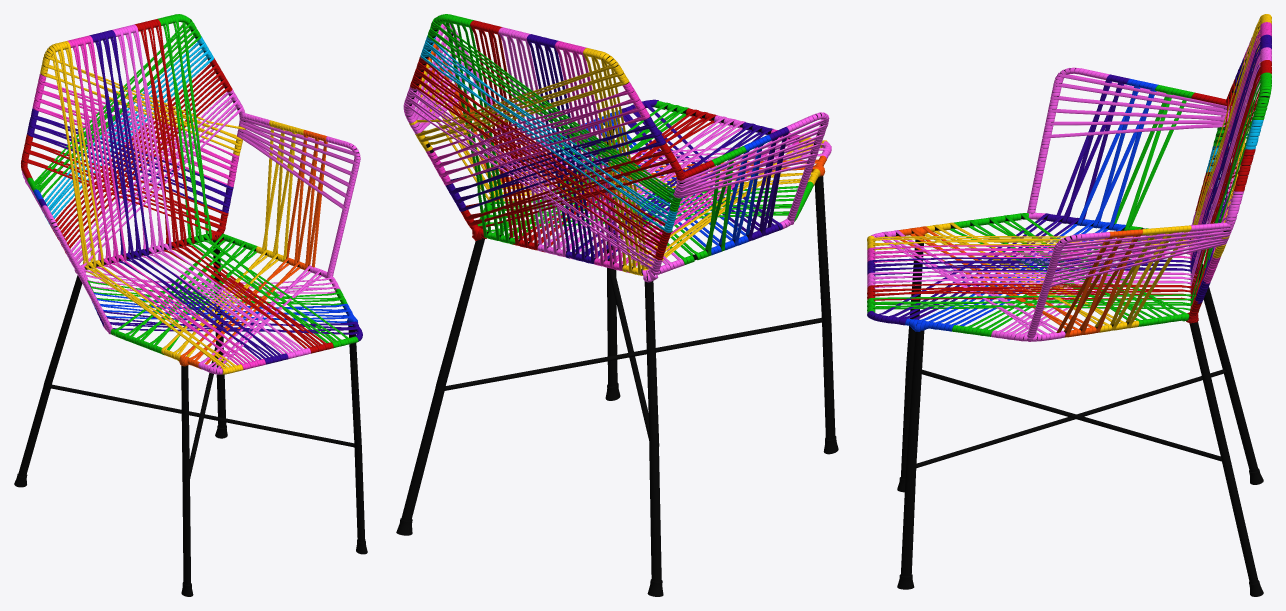
The picture shows the model from 3 angles, left to right: view 1: azimuth 30°, elevation 25°; view 2: azimuth 150°, elevation 25°; view 3: azimuth 270°, elevation 25°; orthographic projection. The views are drawn at different scales.
Visible parts, largest first — view 1: Object001; view 2: Object001; view 3: Object001.
Boxes of the visible parts, box(x1,y1,x2,y2) form: Object001: box(14, 14, 367, 596); Object001: box(396, 14, 838, 596); Object001: box(867, 14, 1271, 596).
Bounding box in the file's own units: 0.6 × 0.8 × 0.6.
Materials: 2 (2 with a texture image).
